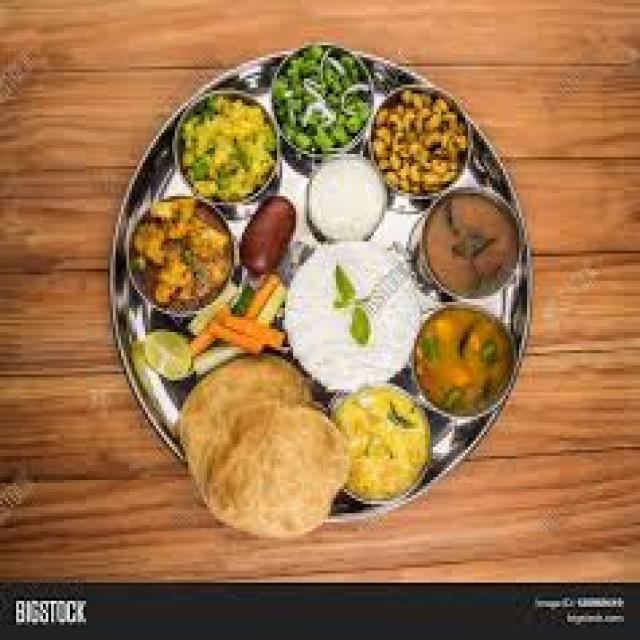curd: (303, 152, 394, 245)
dal: (407, 301, 520, 418), (339, 387, 434, 506)
rice: (282, 240, 423, 396)
roti: (178, 370, 339, 537)
sambar-rasam: (415, 180, 526, 299)
sweet: (234, 198, 302, 274)
veg-fry: (164, 86, 281, 208), (132, 189, 230, 310)
